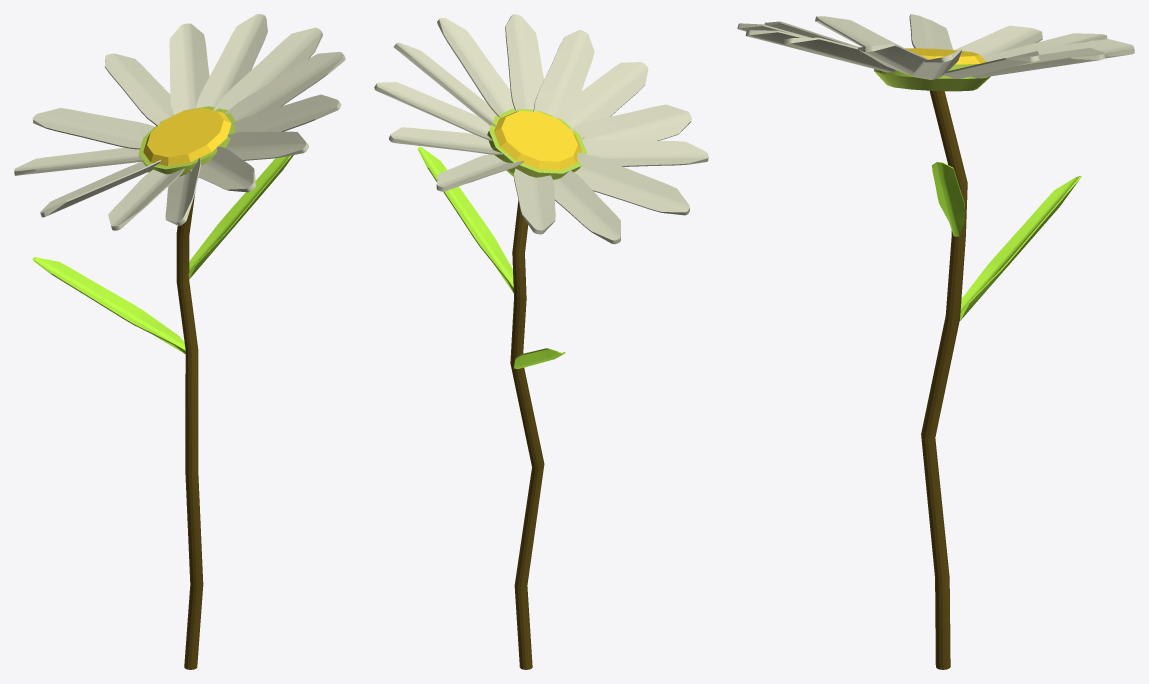
The model's file is Flower by Dakota_Du - 8XNdOWWdOr.glb.
The picture shows the model from 3 angles, left to right: view 1: azimuth 30°, elevation 25°; view 2: azimuth 150°, elevation 25°; view 3: azimuth 270°, elevation 25°; orthographic projection. The views are drawn at different scales.
Visible parts, largest first — view 1: flower; view 2: flower; view 3: flower.
Part boxes in pixels (box(x1,y1,x2,y2)): flower: box(14, 14, 345, 669); flower: box(374, 14, 708, 669); flower: box(737, 14, 1134, 669).
Bounding box in the file's own units: 1.38 × 2.77 × 1.45.
